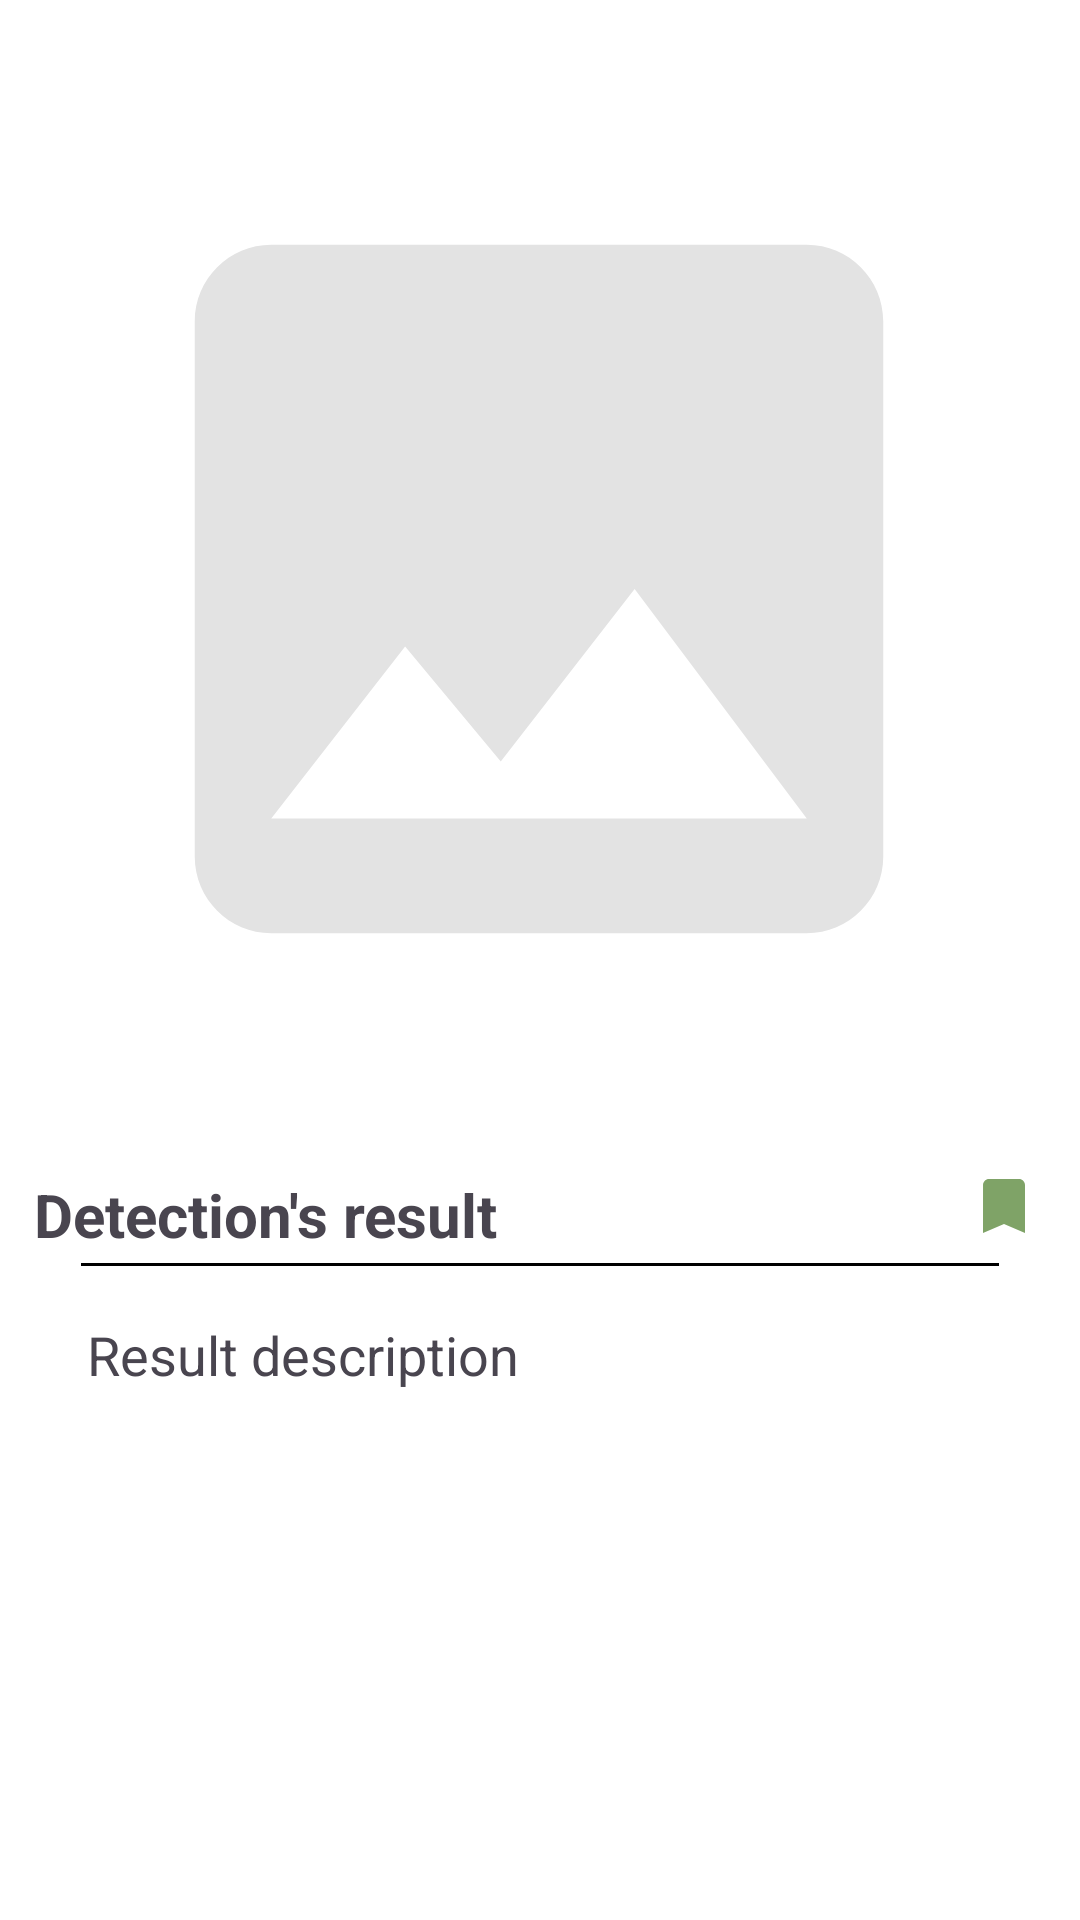

Icons on this 1080x1920 Android screen, each with its box as {"x1": x1, "y1": y1, "x2": x2, "y2": y2}:
bookmark: {"x1": 983, "y1": 1179, "x2": 1025, "y2": 1233}
